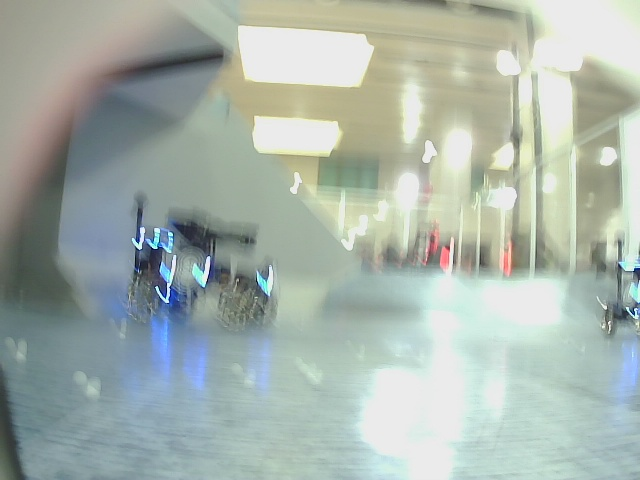pair: (165, 254, 210, 289)
